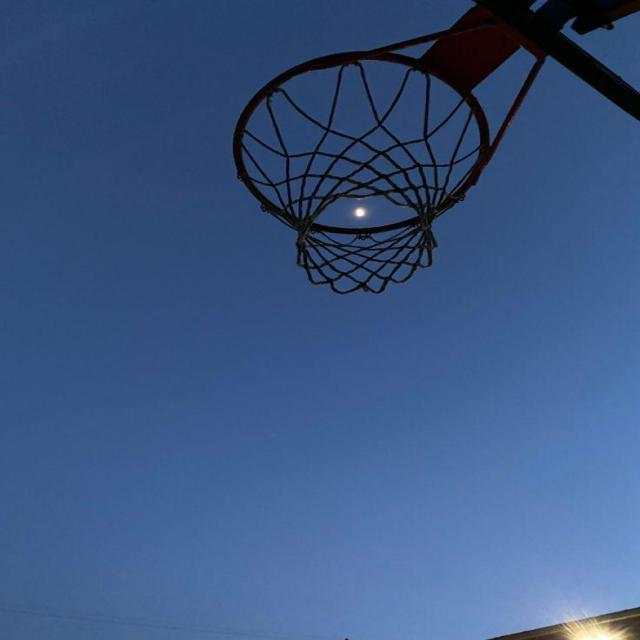hoop: (214, 19, 536, 318)
